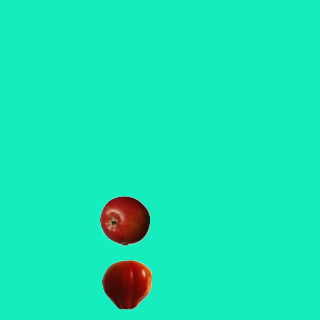Apple Braeburn: (99, 195, 149, 245)
Tomato 1: (101, 259, 151, 309)
